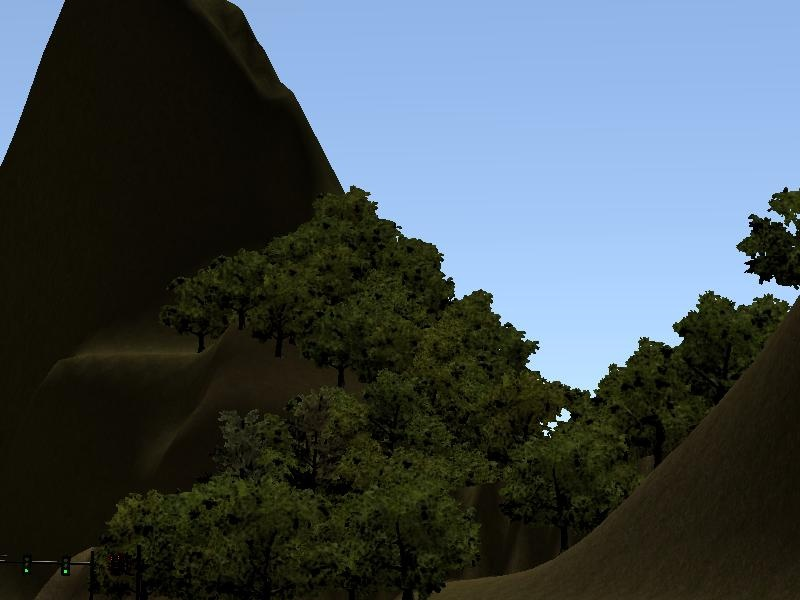GREEN: (57, 549, 73, 578), (17, 551, 33, 578)
